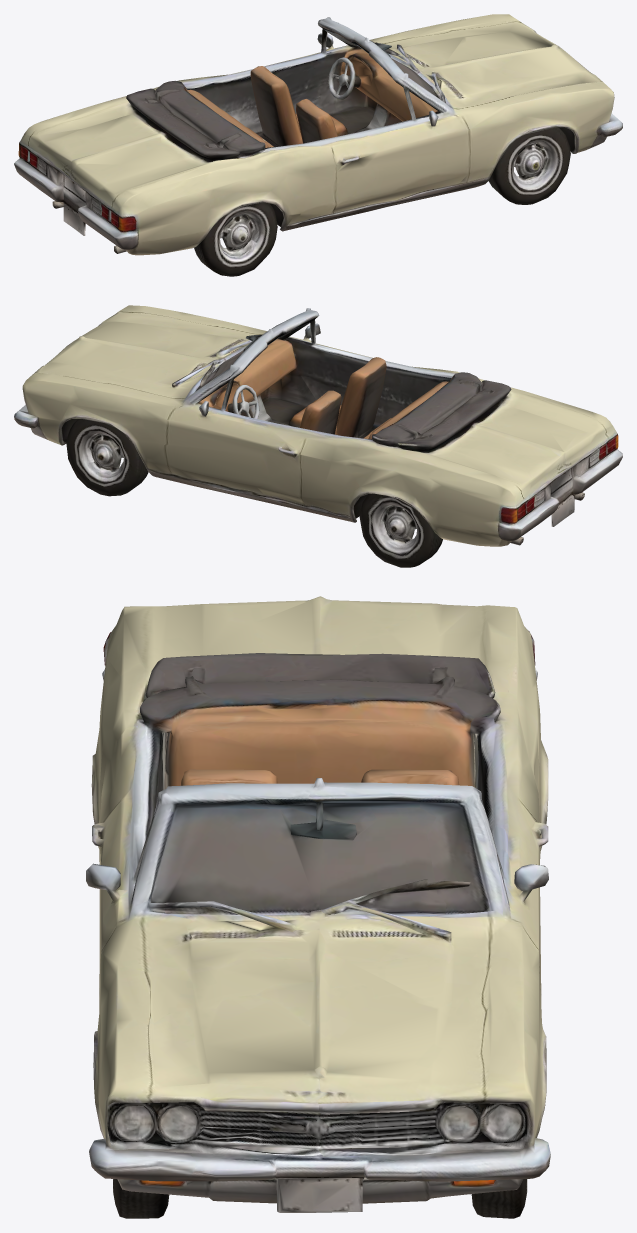
The model's file is car_convertible_cream.glb.
The picture shows the model from 3 angles, top to bottom: view 1: azimuth 30°, elevation 25°; view 2: azimuth 150°, elevation 25°; view 3: azimuth 270°, elevation 25°; orthographic projection. The views are drawn at different scales.
Visible parts, largest first — view 1: tripo_node_db501303-2e8e-46aa-8d80-e5f2816b1e67; view 2: tripo_node_db501303-2e8e-46aa-8d80-e5f2816b1e67; view 3: tripo_node_db501303-2e8e-46aa-8d80-e5f2816b1e67.
Boxes of the visible parts, x1,y1,x2,y2 form: tripo_node_db501303-2e8e-46aa-8d80-e5f2816b1e67: (14, 14, 622, 276); tripo_node_db501303-2e8e-46aa-8d80-e5f2816b1e67: (14, 305, 622, 567); tripo_node_db501303-2e8e-46aa-8d80-e5f2816b1e67: (86, 596, 550, 1218).
Bounding box in the file's own units: 1 × 0.2988 × 0.3953.
1 material, 1 textured.
